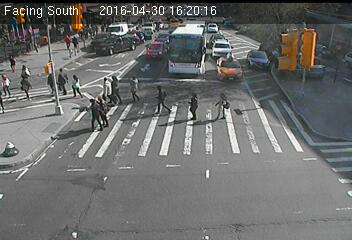neg: (188, 127, 221, 171), (275, 115, 301, 150), (207, 29, 233, 63), (100, 32, 125, 66), (288, 36, 310, 66), (43, 93, 65, 122), (134, 126, 155, 154), (168, 15, 187, 40), (40, 37, 56, 58), (128, 33, 144, 54), (267, 30, 283, 51)
pos: (94, 71, 119, 104), (80, 97, 104, 129), (149, 83, 172, 115), (211, 90, 234, 121), (51, 64, 73, 95), (184, 90, 206, 119), (65, 69, 86, 97), (124, 73, 145, 100), (14, 73, 32, 98), (3, 51, 17, 70), (69, 32, 82, 50)
